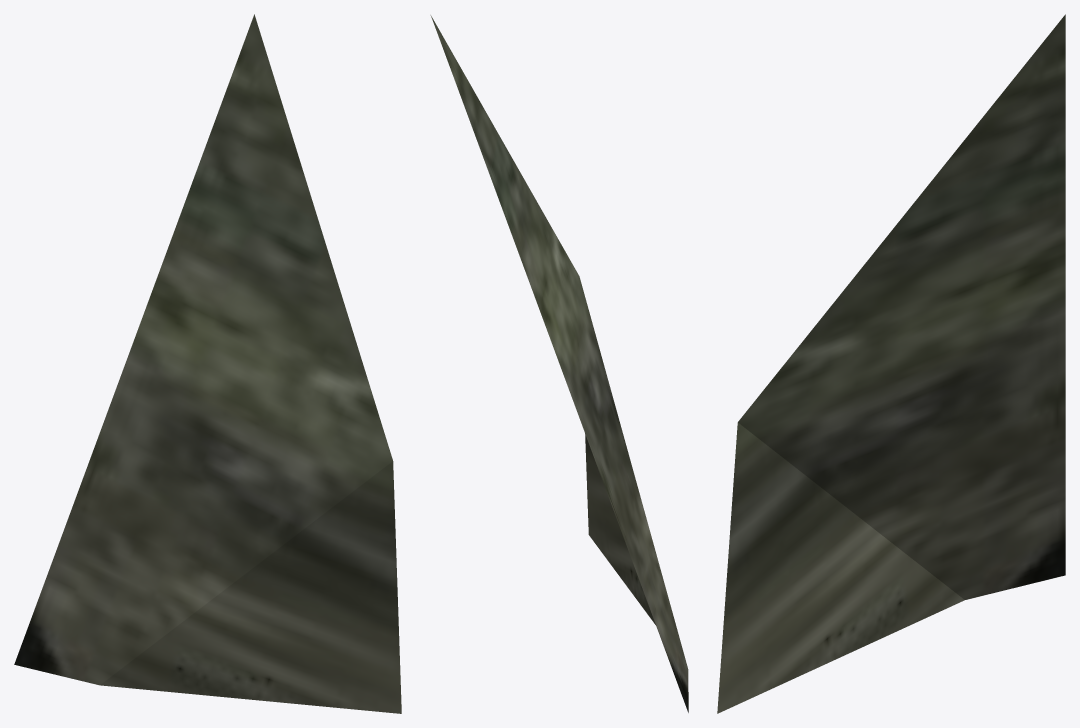
3 renders of one model, left to right at view 1: azimuth 30°, elevation 25°; view 2: azimuth 150°, elevation 25°; view 3: azimuth 270°, elevation 25°, orthographic. The views are drawn at different scales.
Size of the model in its own units: 1.2 by 2.83 by 1.28.
1 material, 1 textured.
